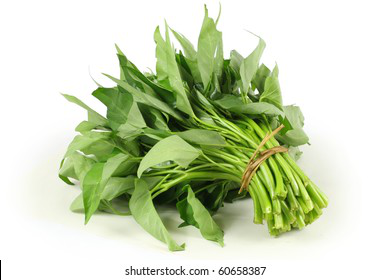Kangkung: (74, 29, 343, 241)
